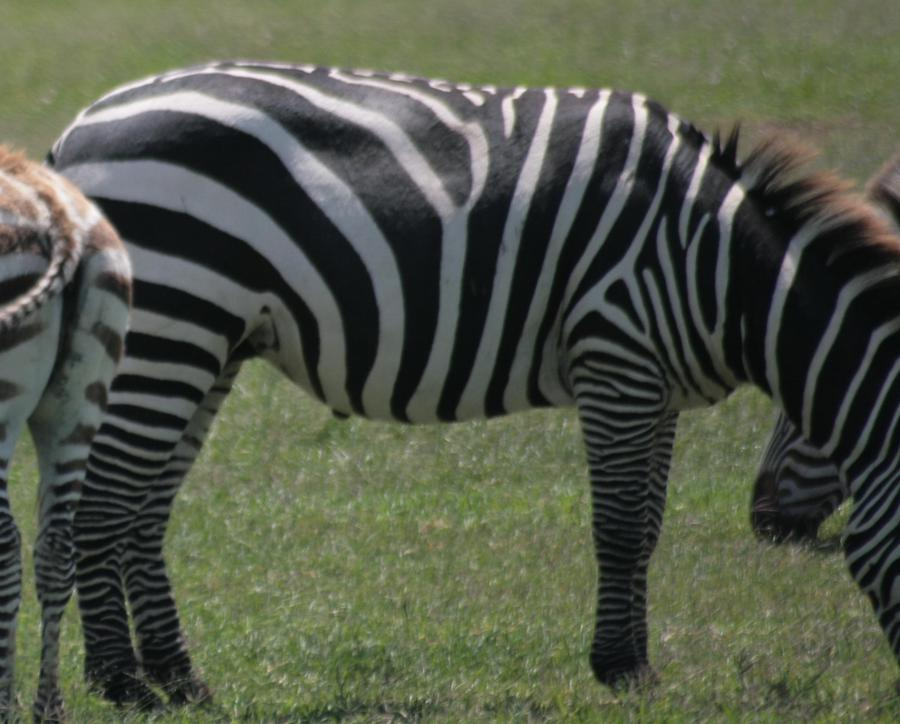zebra_plains: (85, 59, 702, 397)
